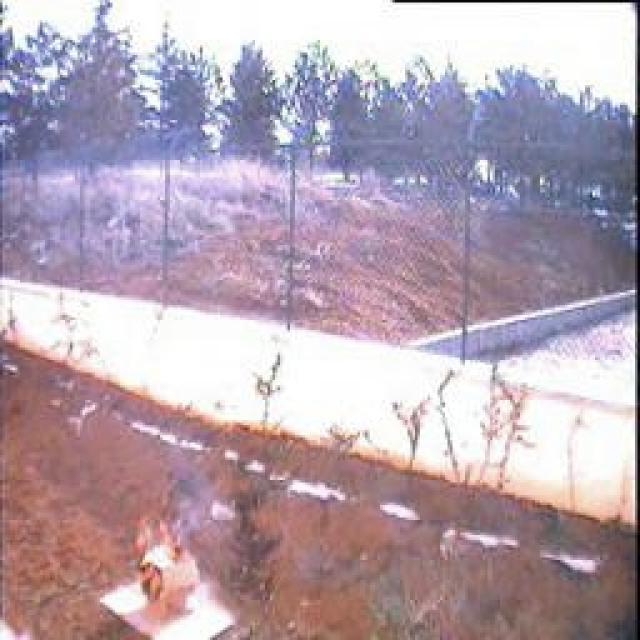Fire: (130, 477, 208, 625)
